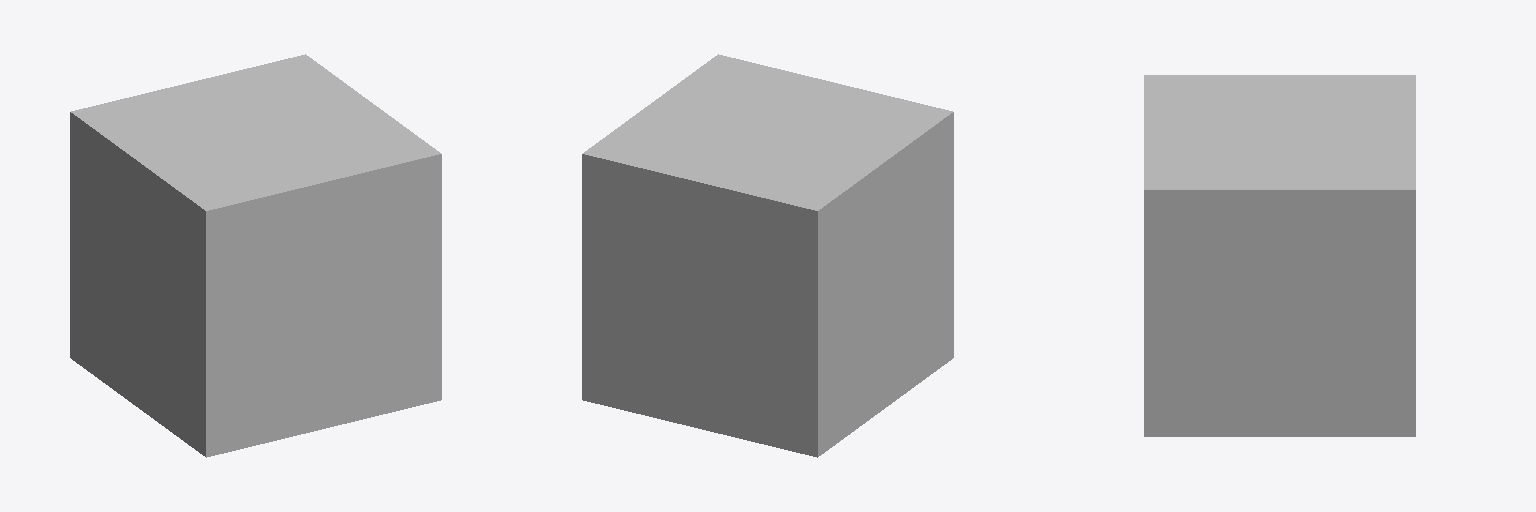
The model's file is grass.obj.
3 views of the same model, side by side, from view 1: azimuth 30°, elevation 25°; view 2: azimuth 150°, elevation 25°; view 3: azimuth 270°, elevation 25° (orthographic).
Visible parts, largest first — view 1: MODELS_bin_007:poly000; view 2: MODELS_bin_007:poly000; view 3: MODELS_bin_007:poly000.
Part boxes in pixels (x1,y1,x2,y2): MODELS_bin_007:poly000: (70, 54, 441, 457); MODELS_bin_007:poly000: (582, 54, 953, 457); MODELS_bin_007:poly000: (1144, 75, 1415, 436).
Size of the model in its own units: 3.3 by 3.3 by 3.3.